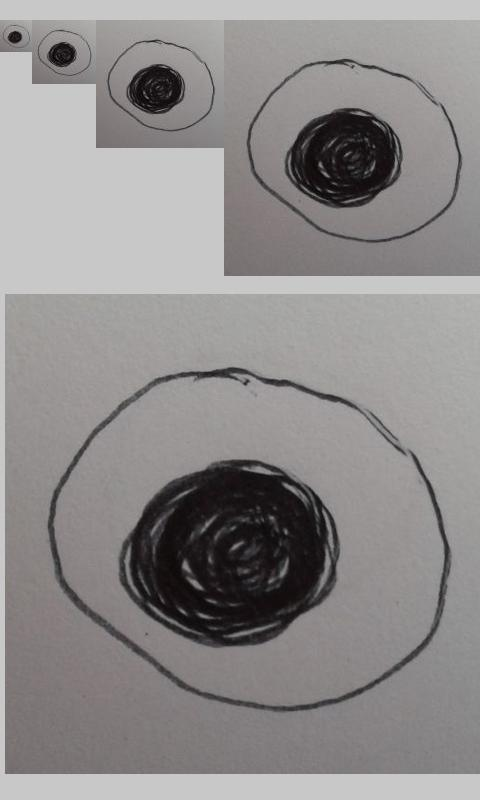radio_button: (46, 366, 451, 714), (246, 58, 463, 244), (107, 38, 216, 132), (37, 29, 92, 77), (2, 24, 31, 49)
